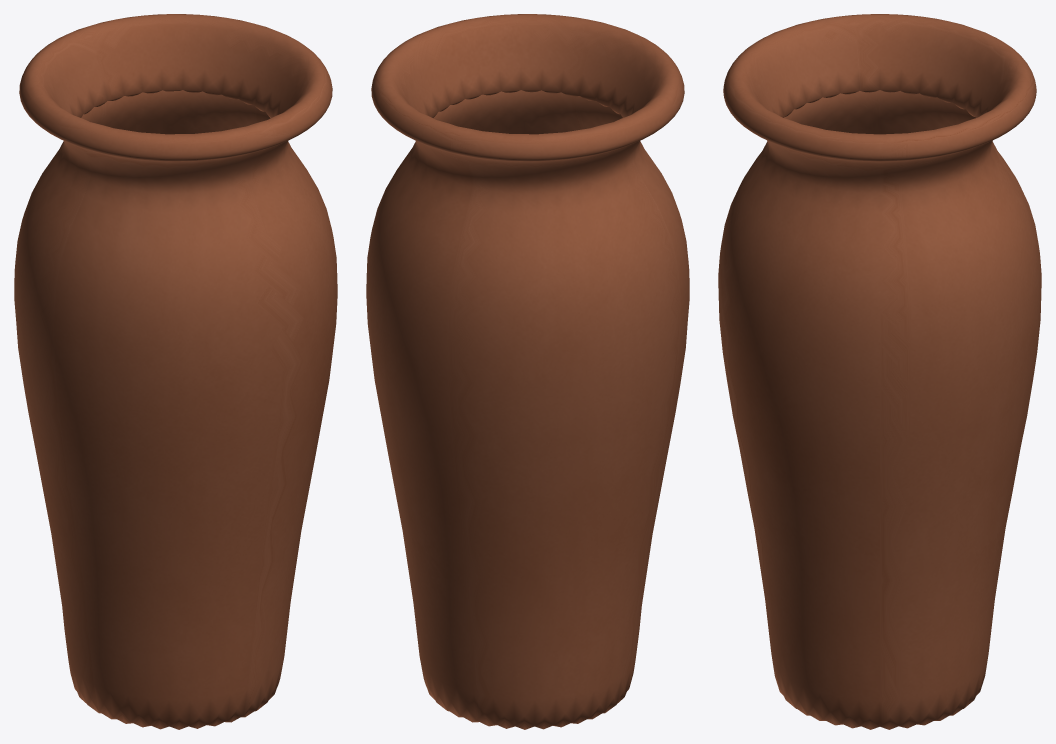
The model's file is 14705771-7788-4c5b-b18d-42e1fdc3e059.glb.
The picture shows the model from 3 angles, left to right: view 1: azimuth 30°, elevation 25°; view 2: azimuth 150°, elevation 25°; view 3: azimuth 270°, elevation 25°; orthographic projection.
Parts seen in each view (by area): view 1: Cylinder; view 2: Cylinder; view 3: Cylinder.
Boxes of the visible parts, bbox=[...] form: Cylinder: bbox=[14, 14, 337, 729]; Cylinder: bbox=[366, 14, 689, 729]; Cylinder: bbox=[718, 14, 1041, 729].
Size of the model in its own units: 2.06 by 4.35 by 2.06.
Materials: 1 (1 with a texture image).
